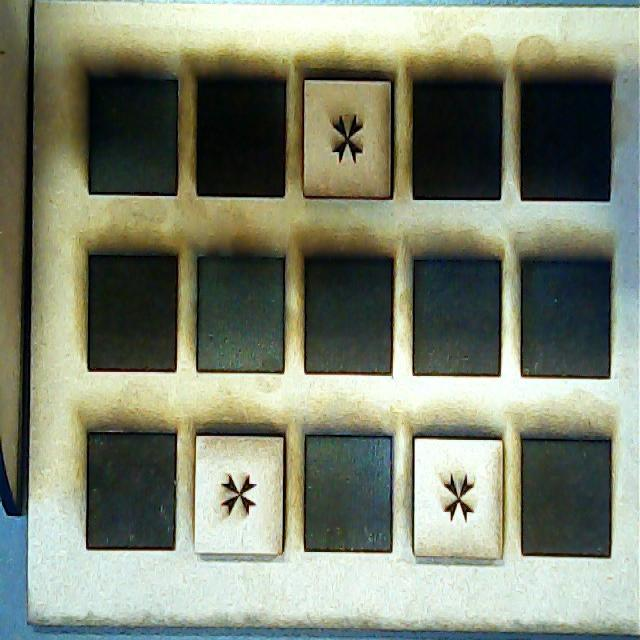maltese: (414, 434, 507, 559), (195, 428, 287, 553), (304, 77, 395, 199)
